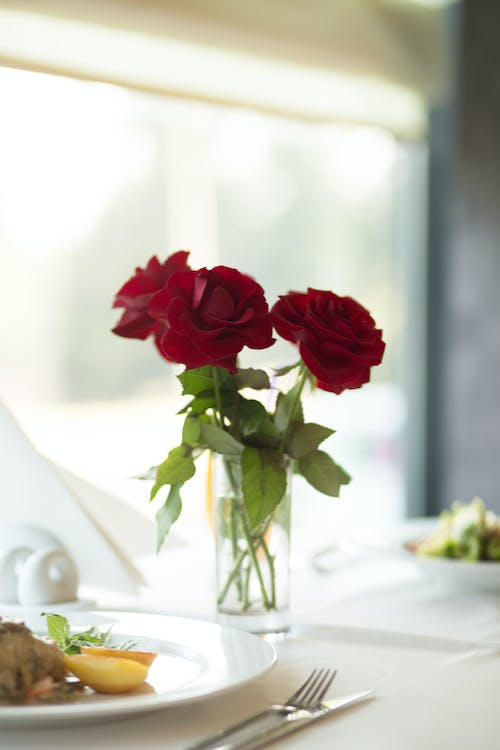knife: (209, 686, 381, 750)
